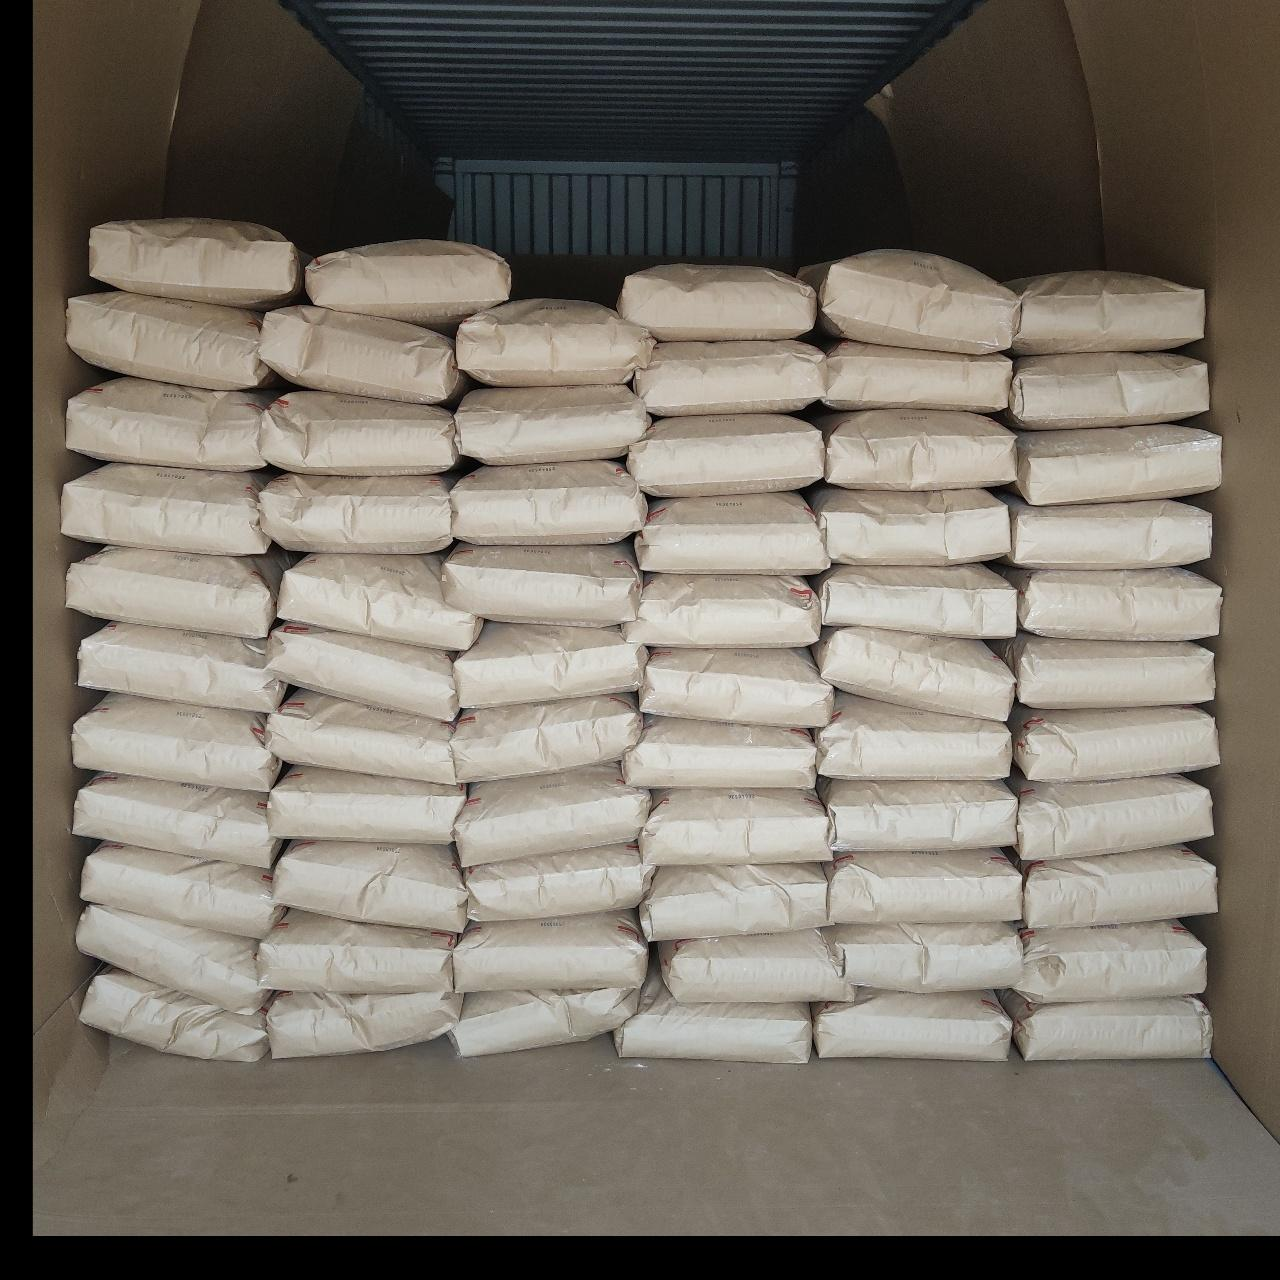sack: (800, 250, 1014, 350), (260, 306, 464, 404), (68, 292, 272, 390), (78, 906, 268, 1008), (74, 696, 278, 790), (68, 548, 280, 636), (68, 378, 270, 470), (92, 220, 302, 308), (280, 554, 478, 646), (76, 774, 278, 864), (80, 622, 286, 710), (456, 768, 648, 862), (82, 844, 282, 934), (306, 242, 510, 330), (268, 624, 458, 718), (814, 628, 1012, 718), (64, 464, 270, 550), (266, 690, 458, 782), (82, 968, 268, 1060), (274, 842, 462, 932), (816, 694, 1010, 778), (1012, 424, 1220, 502), (1014, 776, 1210, 858), (458, 300, 654, 382), (1006, 272, 1202, 354), (998, 632, 1214, 706), (1014, 920, 1206, 1002), (258, 910, 454, 990), (454, 696, 640, 780), (636, 492, 826, 574), (628, 414, 822, 494), (452, 462, 646, 542), (262, 392, 454, 472), (456, 624, 646, 704), (1024, 846, 1214, 926), (444, 544, 638, 622), (812, 486, 1006, 564), (1004, 354, 1206, 428), (640, 648, 830, 726), (456, 912, 646, 990), (456, 386, 650, 462), (260, 474, 454, 550), (1008, 568, 1218, 638), (1012, 708, 1216, 780), (270, 766, 462, 842), (814, 566, 1014, 638), (620, 266, 814, 340), (822, 412, 1014, 486), (450, 984, 650, 1054), (828, 850, 1020, 922), (626, 574, 818, 646), (642, 866, 828, 940), (616, 992, 812, 1062), (1004, 500, 1210, 566), (642, 790, 830, 862), (822, 780, 1014, 850), (624, 718, 816, 788), (466, 846, 652, 918), (636, 342, 822, 414), (822, 342, 1010, 412), (814, 992, 1010, 1058), (658, 930, 848, 998), (830, 924, 1020, 990), (268, 992, 460, 1056), (1010, 998, 1210, 1058)
